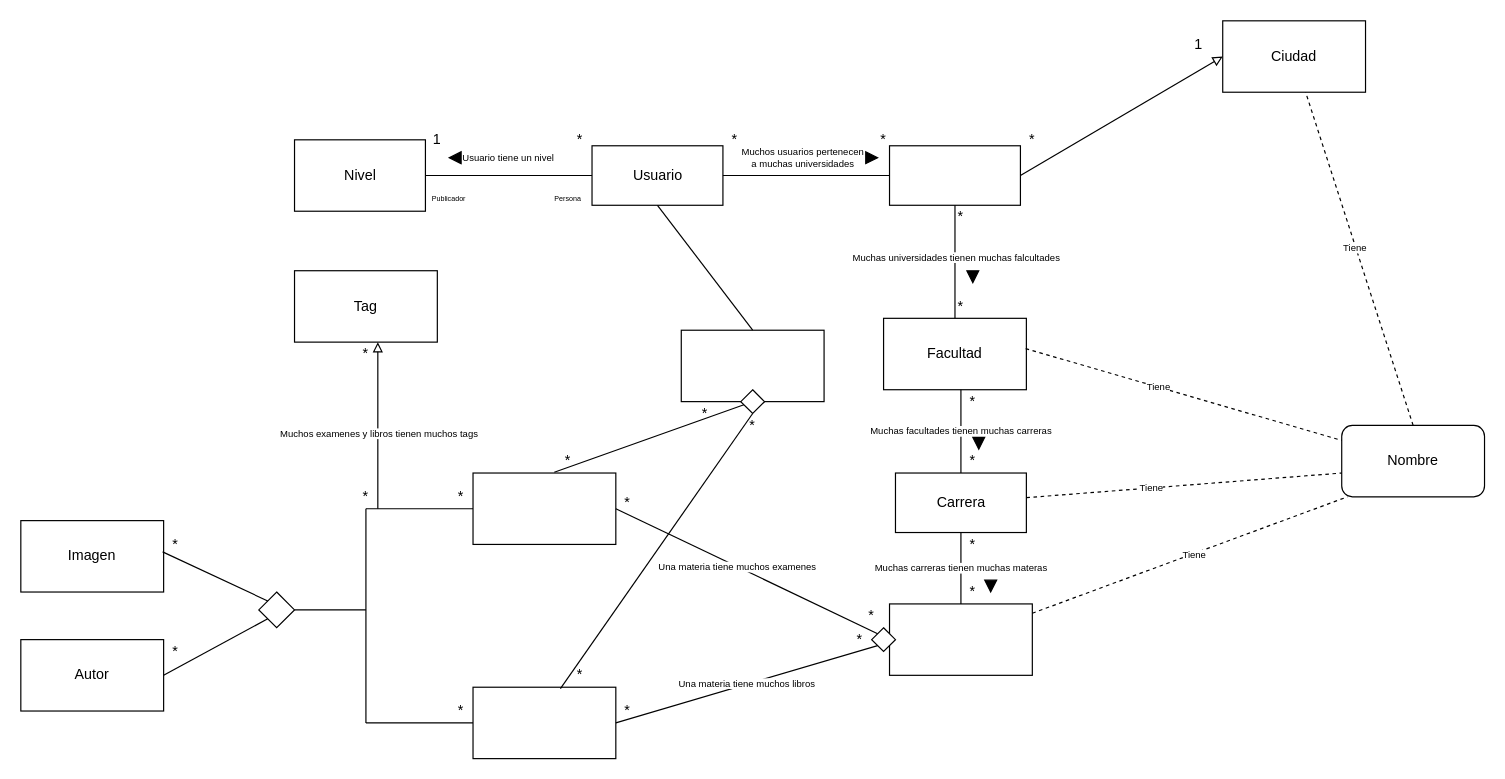
The diagram is 1505 pixels wide and 779 high, and some of its shapes have lost their labels. The box of each missing label's shape, as (x1, y1, x2, y2) in pixels:
Examen: (472, 472, 616, 544)
Favoritos: (680, 329, 824, 402)
Libro: (472, 686, 616, 759)
Materia: (888, 603, 1032, 675)
Universidad: (888, 145, 1020, 205)
